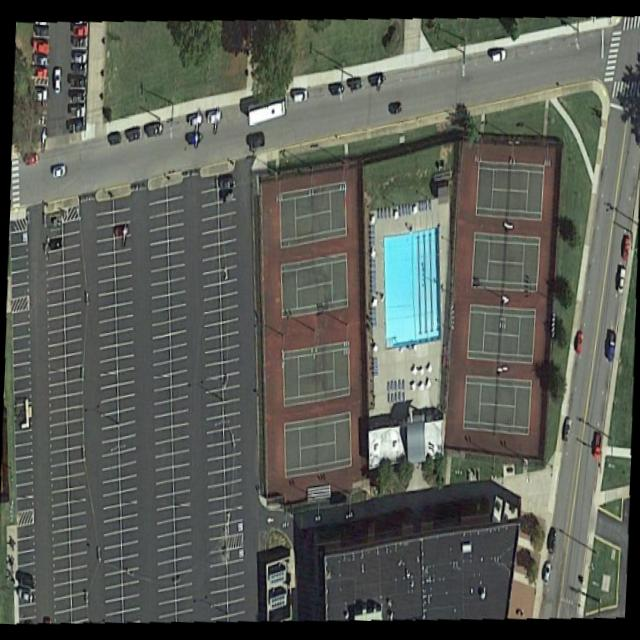large-vehicle: (245, 92, 288, 129)
small-vehicle: (247, 130, 265, 153), (15, 571, 35, 591), (606, 330, 617, 365), (15, 586, 34, 606), (289, 87, 308, 107), (123, 125, 141, 146), (185, 112, 203, 132), (365, 72, 383, 90), (66, 118, 83, 137), (66, 74, 87, 89), (592, 432, 602, 463), (143, 122, 161, 139), (547, 527, 557, 556), (562, 416, 572, 445), (345, 78, 362, 95), (23, 151, 39, 169), (203, 110, 221, 126), (217, 176, 236, 191), (185, 132, 202, 148), (68, 89, 84, 105), (67, 104, 84, 119), (490, 48, 505, 65), (326, 83, 343, 98), (69, 36, 87, 50), (31, 40, 49, 54), (617, 267, 626, 295), (542, 561, 552, 586), (574, 331, 584, 356), (47, 238, 63, 253), (106, 131, 121, 147), (386, 102, 402, 117), (70, 63, 87, 77), (32, 24, 49, 38), (33, 87, 47, 103), (32, 53, 48, 67), (113, 224, 129, 238), (69, 53, 86, 66), (52, 69, 60, 96), (51, 164, 66, 178), (70, 25, 87, 37), (621, 237, 629, 262), (35, 68, 47, 80)
